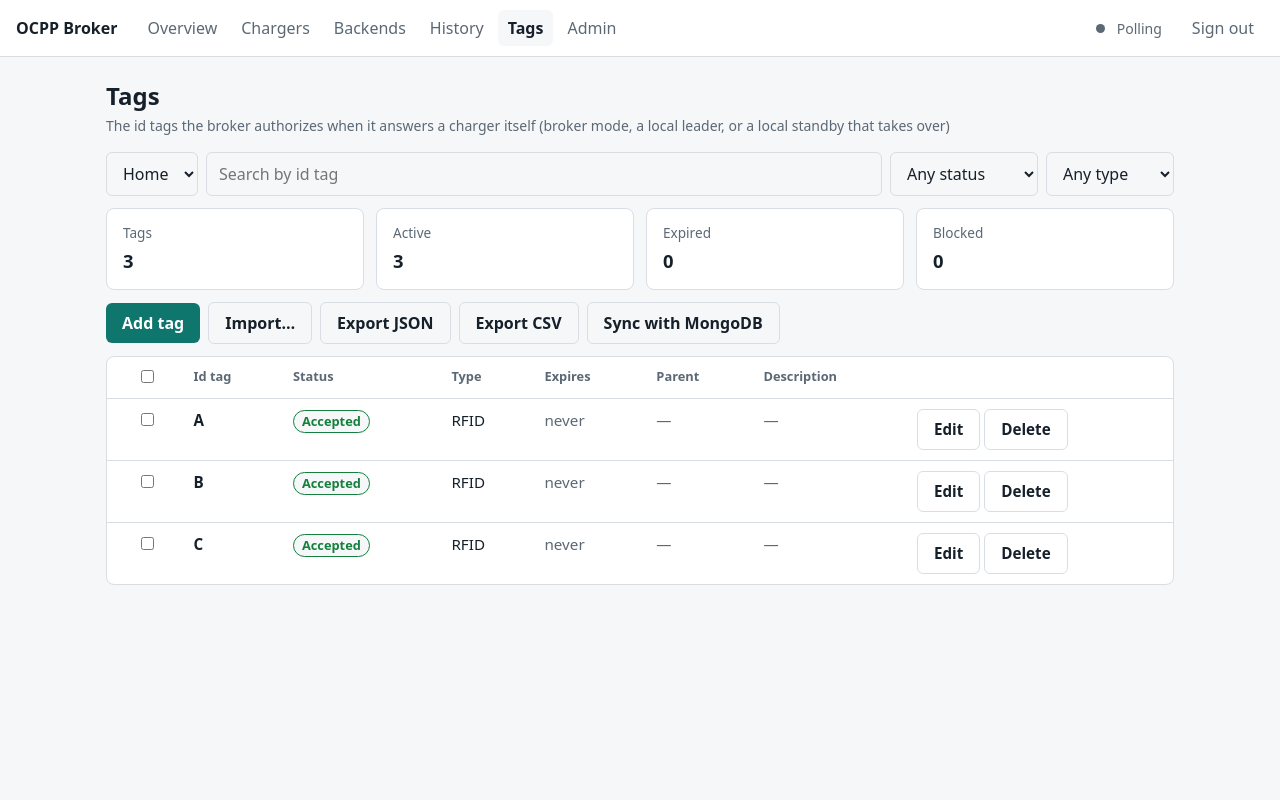
Scenario: deleting and bulk changes › deletes several at once and reports the ones that could not be deleted
Expected: the heading "Tags" is shown, [106,79,160,112]
Expected: the column heading "A" is shown, [180,399,279,460]
Click the checkbox named "Select all tags on this page": click(147, 376) [125,370,170,383]
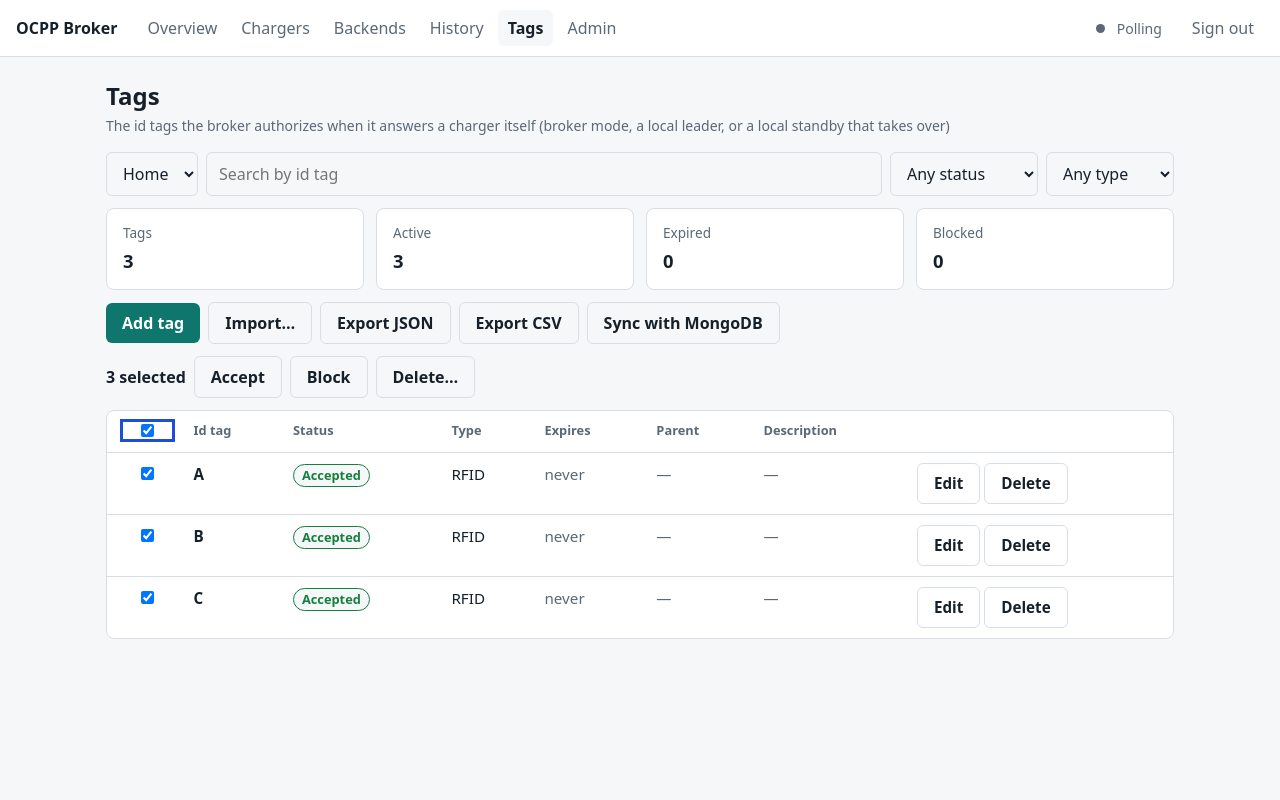
Click the button "Delete…": click(425, 377) [376,356,475,398]
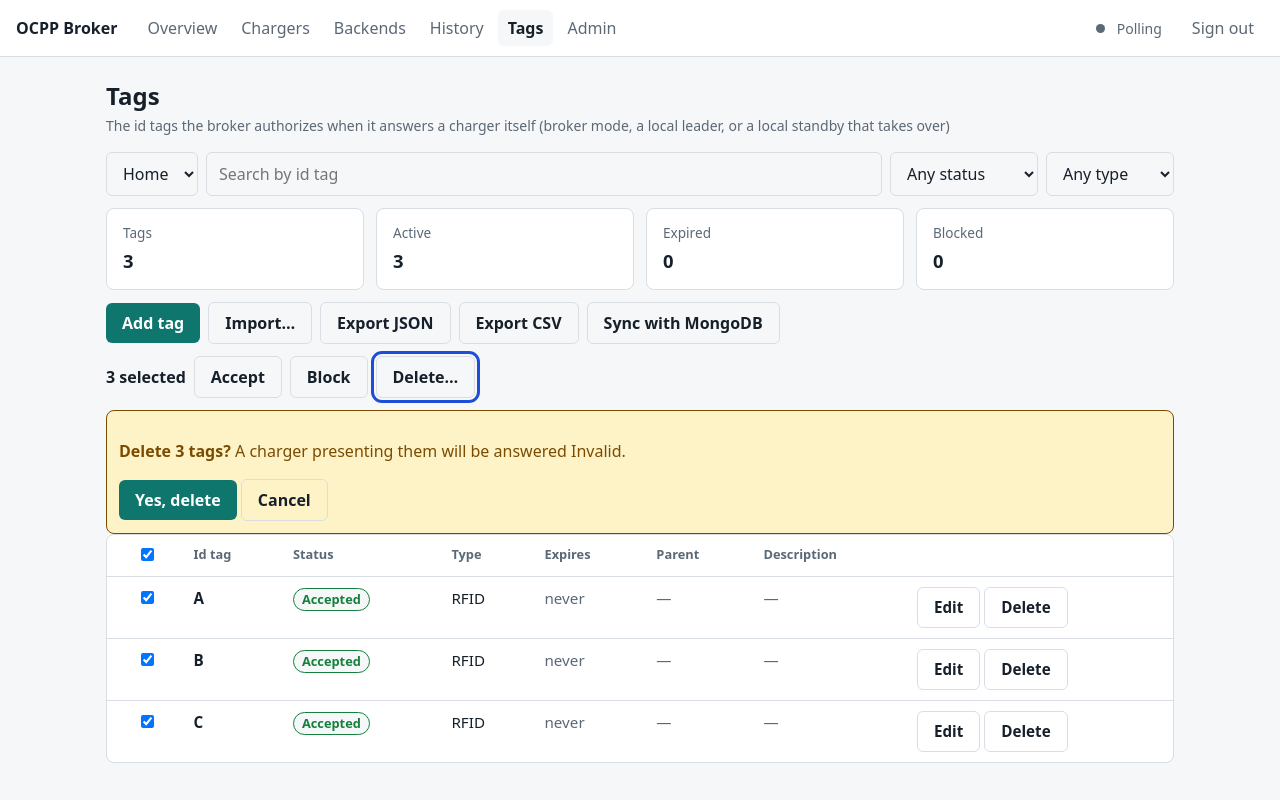
Expected: the dialog shows "Delete 3 tags?", [106,410,1174,534]
Click the button "Yes, delete": click(178, 500) [119,480,237,520]
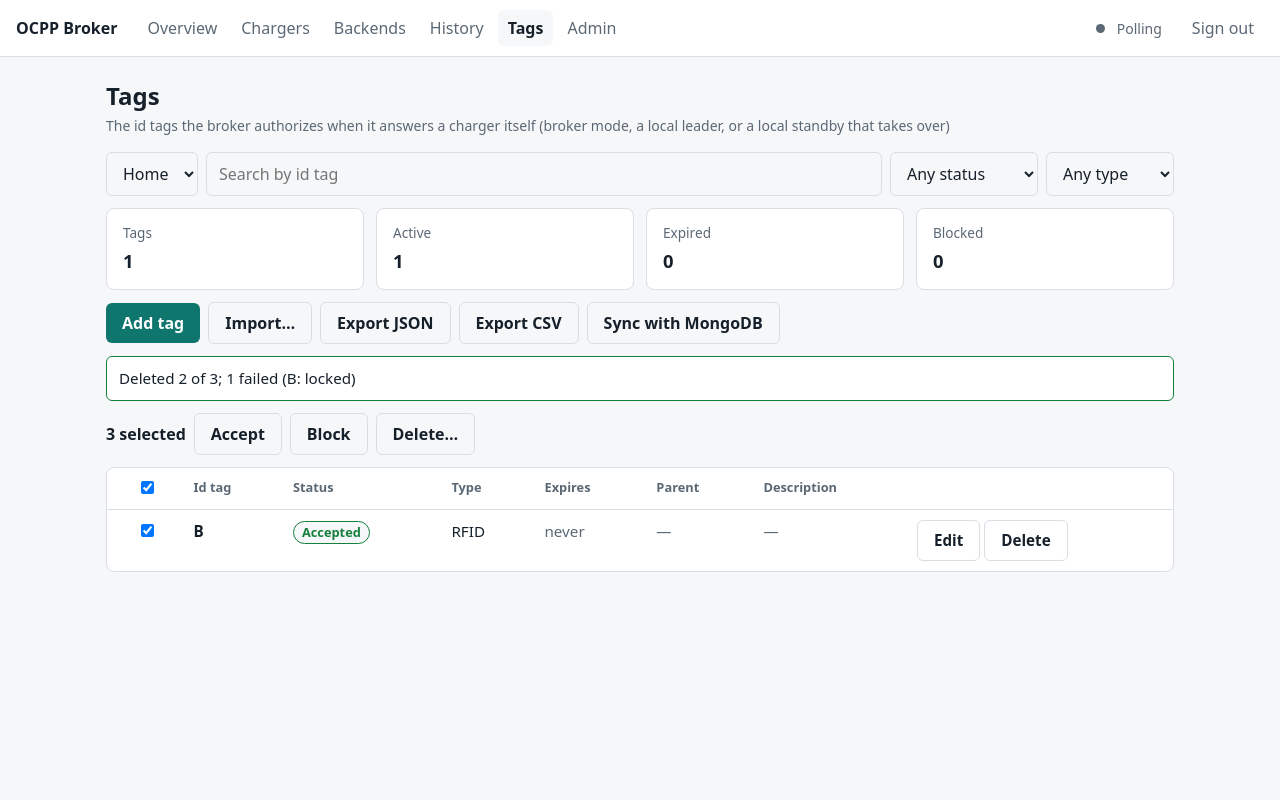
Expected: the text "Deleted 2 of 3; 1 failed (B: locked)" is shown, [106,356,1174,401]
